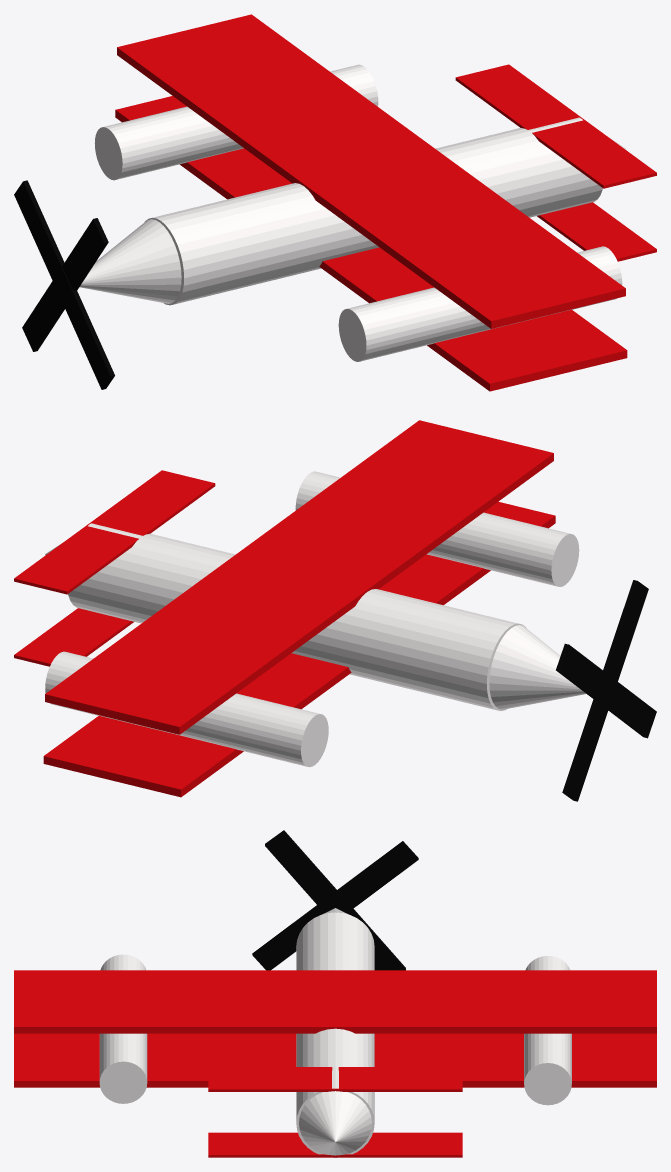
The picture shows the model from 3 angles, top to bottom: view 1: azimuth 30°, elevation 25°; view 2: azimuth 150°, elevation 25°; view 3: azimuth 270°, elevation 25°; orthographic projection. The views are drawn at different scales.
Parts seen in each view (by area): view 1: Cone.001; view 2: Cone.001; view 3: Cone.001.
Boxes of the visible parts, x1=… form: Cone.001: x1=14, y1=14, x2=656, y2=391; Cone.001: x1=14, y1=420, x2=656, y2=801; Cone.001: x1=14, y1=830, x2=656, y2=1157.
Bounding box in the file's own units: 5.99 × 1.8 × 6.89.
